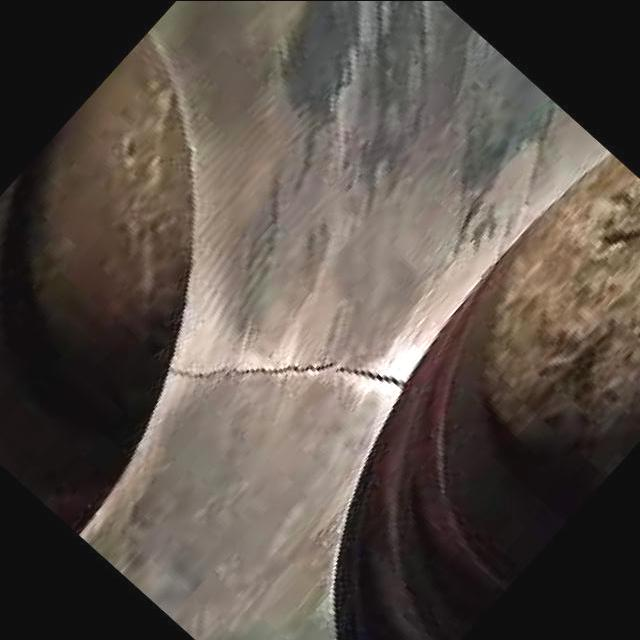defect: (167, 356, 414, 392)
